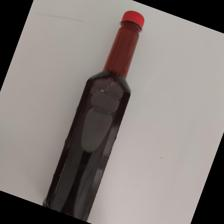Namngu: (43, 9, 145, 224)
